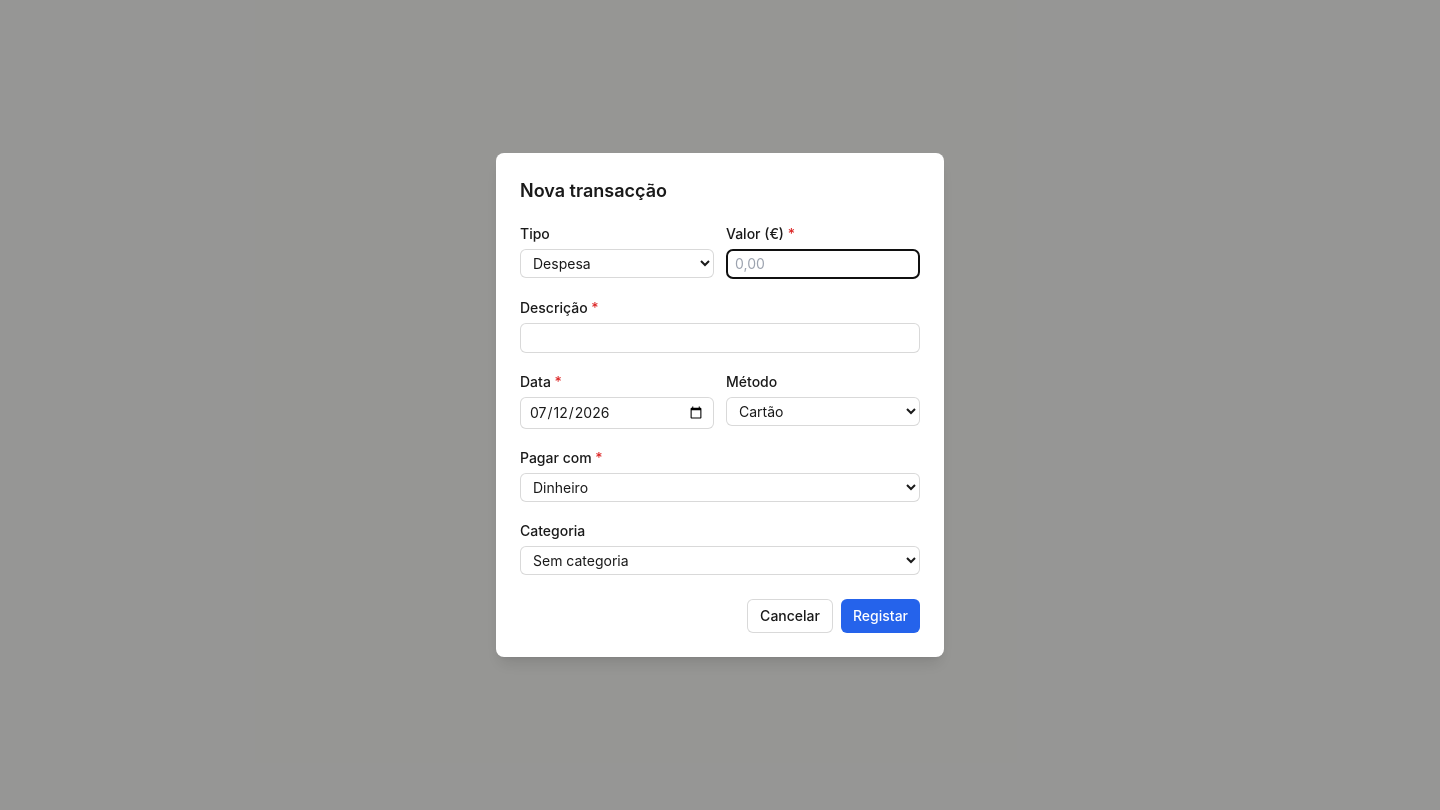
Test: <NewTransactionModal> › descrição vazia bloqueia submit e mostra erro — sem POST
In the field named "Valor em euros": point(823, 264) [726,249,920,279], type "13,50"
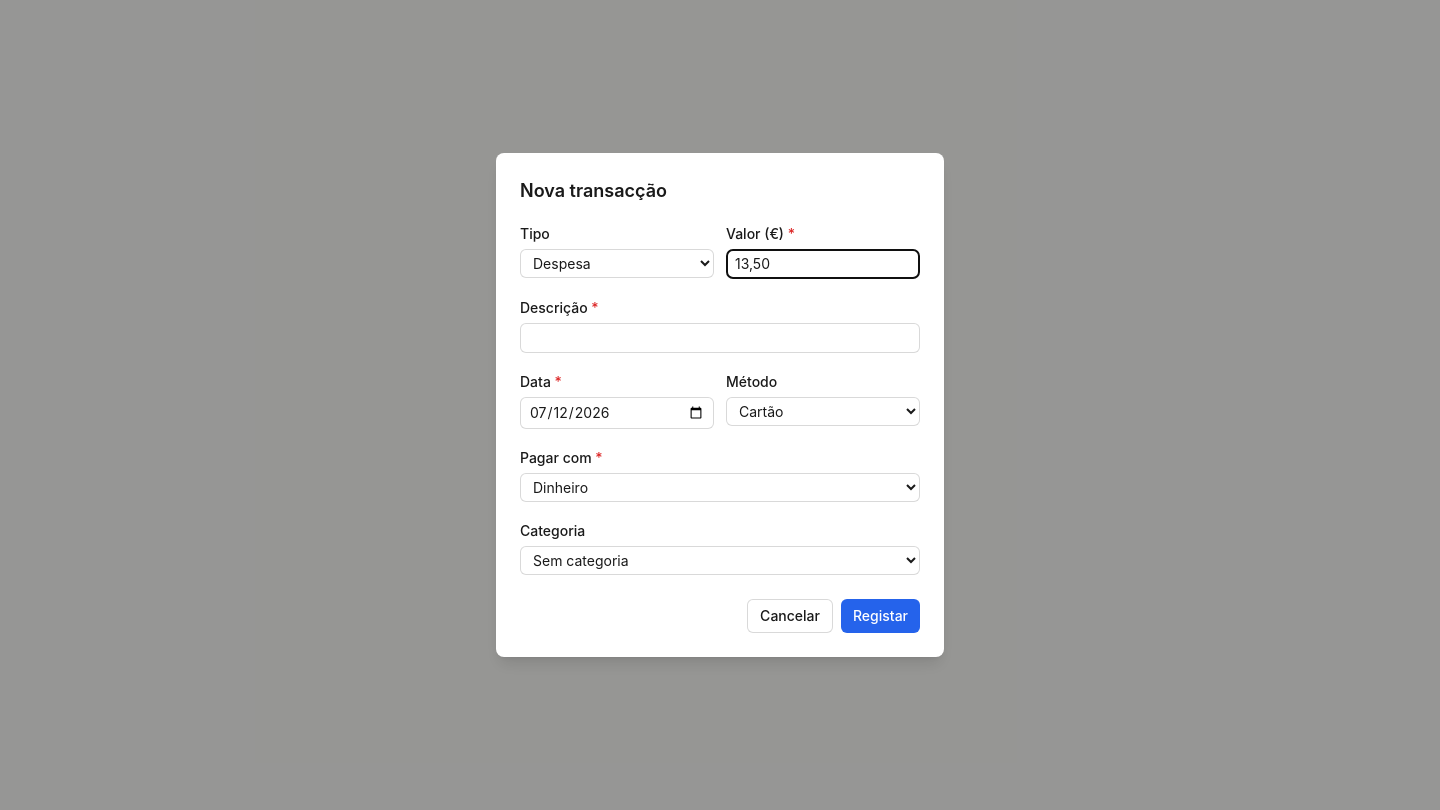
Click the button "Registar": point(880, 616) [841,599,920,633]
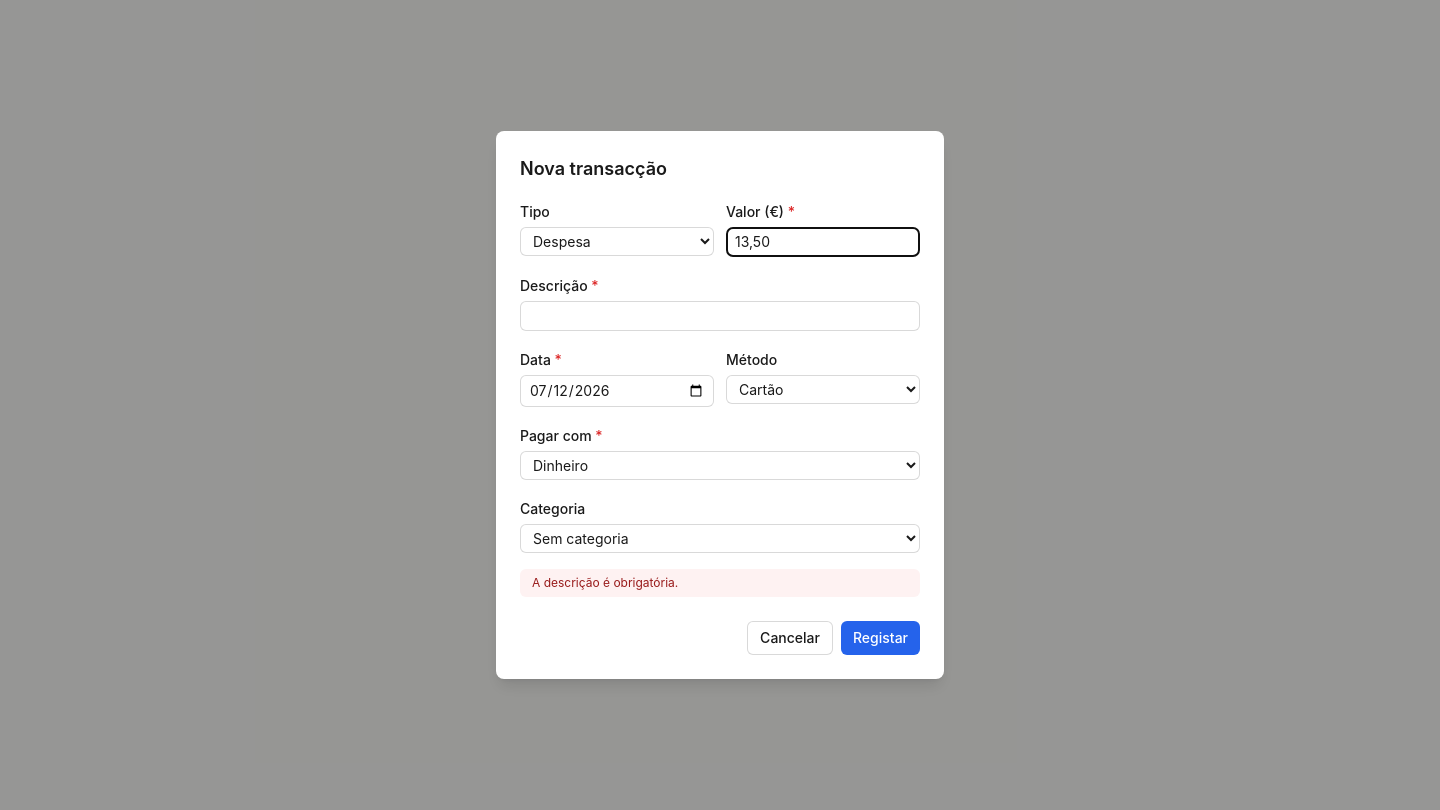
Now the message shows "descrição é obrigatória", box [532,575,678,590]
